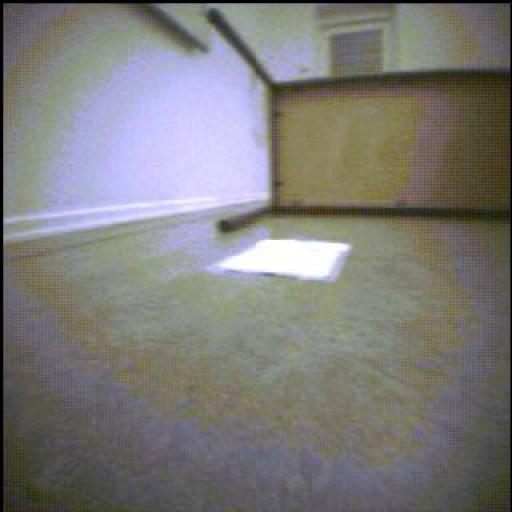Pad: (211, 241, 352, 283)
